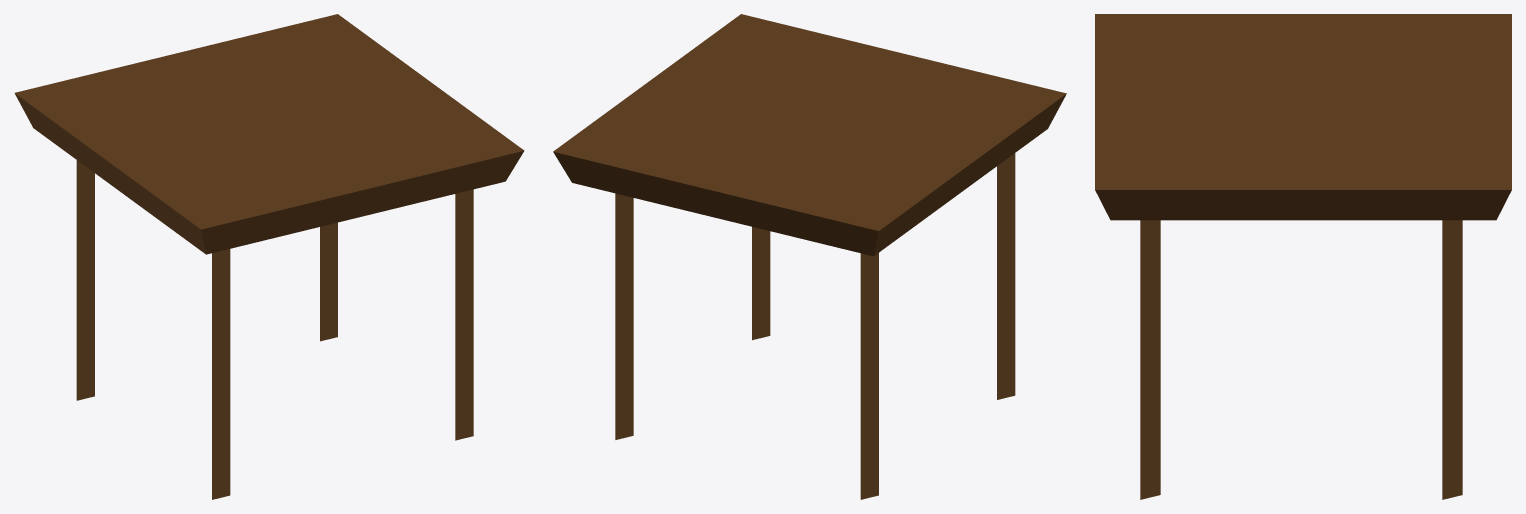
File: SMALLTABLE_V1.fbx
The picture shows the model from 3 angles, left to right: view 1: azimuth 30°, elevation 25°; view 2: azimuth 150°, elevation 25°; view 3: azimuth 270°, elevation 25°; orthographic projection. The views are drawn at different scales.
Visible parts, largest first — view 1: Cube; view 2: Cube; view 3: Cube.
Boxes of the visible parts, left/top/right/bottom form: Cube: left=14, top=14, right=524, bottom=499; Cube: left=553, top=14, right=1066, bottom=499; Cube: left=1095, top=14, right=1511, bottom=499.
Size of the model in its own units: 200 by 173 by 200.
